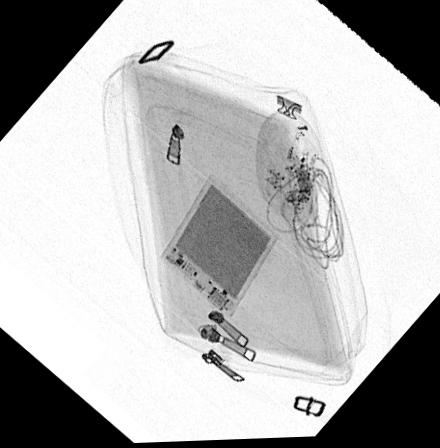Powerbank: (159, 173, 281, 318)
